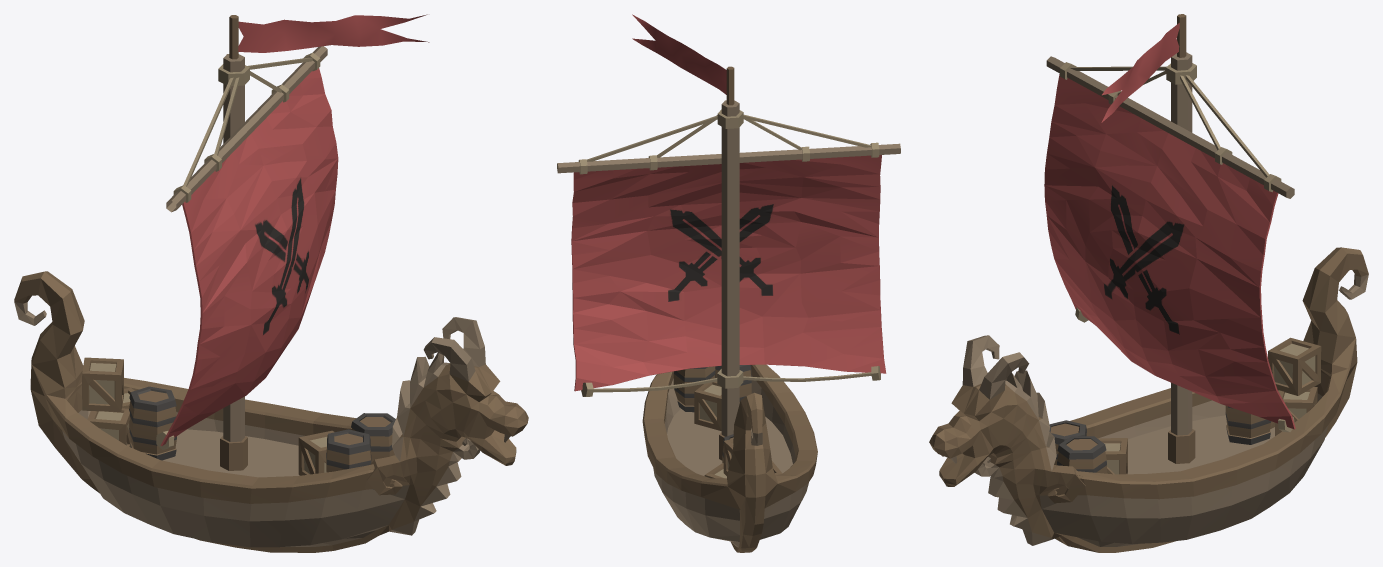
The model's file is merchantShip.fbx.
3 views of the same model, side by side, from view 1: azimuth 30°, elevation 25°; view 2: azimuth 150°, elevation 25°; view 3: azimuth 270°, elevation 25° (orthographic). The views are drawn at different scales.
Visible parts, largest first — view 1: merchantShip, merchantShipFlag; view 2: merchantShip, merchantShipFlag; view 3: merchantShip, merchantShipFlag.
Boxes of the visible parts, bbox=[...] form: merchantShip: bbox=[14, 15, 528, 552]; merchantShipFlag: bbox=[238, 14, 429, 52]; merchantShip: bbox=[557, 66, 900, 552]; merchantShipFlag: bbox=[632, 14, 726, 94]; merchantShip: bbox=[929, 14, 1368, 552]; merchantShipFlag: bbox=[1101, 23, 1179, 122].
Size of the model in its own units: 2.32 by 3.82 by 2.93.
Materials: 3 (3 with a texture image).
